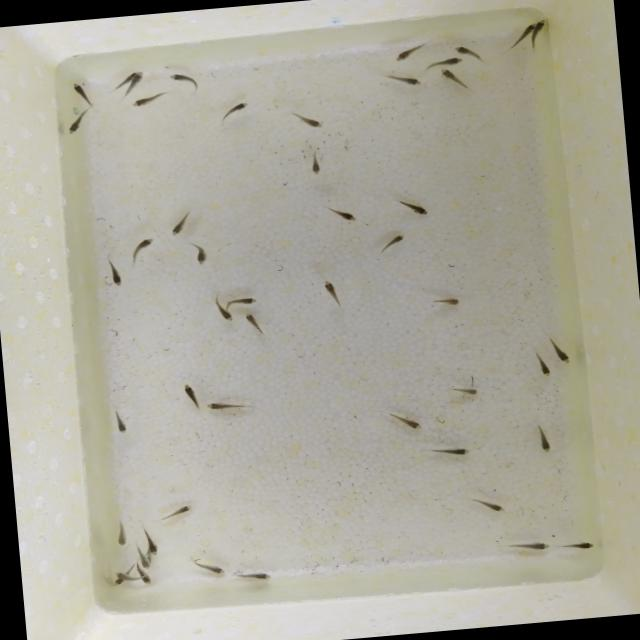fingerling: (376, 404, 424, 436), (317, 276, 348, 314), (203, 395, 260, 415), (466, 492, 509, 518), (187, 552, 228, 578), (322, 200, 361, 227), (165, 206, 197, 238), (421, 441, 474, 460), (502, 19, 532, 52), (390, 40, 431, 64), (436, 66, 472, 93), (126, 235, 157, 266), (394, 195, 432, 220), (240, 309, 271, 339), (288, 108, 326, 132), (530, 418, 554, 456), (502, 538, 552, 556), (70, 80, 98, 112), (374, 232, 408, 258), (217, 100, 251, 126), (528, 348, 554, 380), (169, 70, 203, 94), (155, 502, 195, 522), (382, 71, 422, 91), (103, 254, 125, 290), (186, 239, 212, 269), (425, 292, 466, 310), (179, 381, 202, 413), (234, 566, 274, 584), (442, 382, 482, 400), (110, 407, 131, 437), (130, 92, 164, 110), (112, 518, 132, 548), (144, 524, 162, 557), (64, 112, 88, 136), (552, 339, 572, 367), (530, 18, 548, 49), (305, 148, 324, 177), (125, 70, 147, 95), (558, 538, 596, 552), (451, 42, 476, 56), (234, 294, 262, 306), (434, 56, 464, 67), (216, 308, 234, 324), (114, 569, 138, 580), (139, 572, 153, 585), (140, 559, 152, 570), (112, 579, 122, 587)
